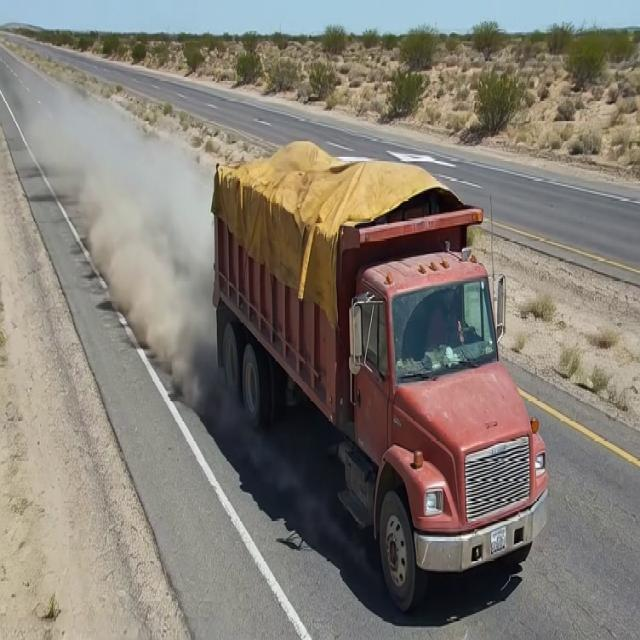Box: (212, 140, 487, 243)
Truck: (203, 101, 548, 588)
